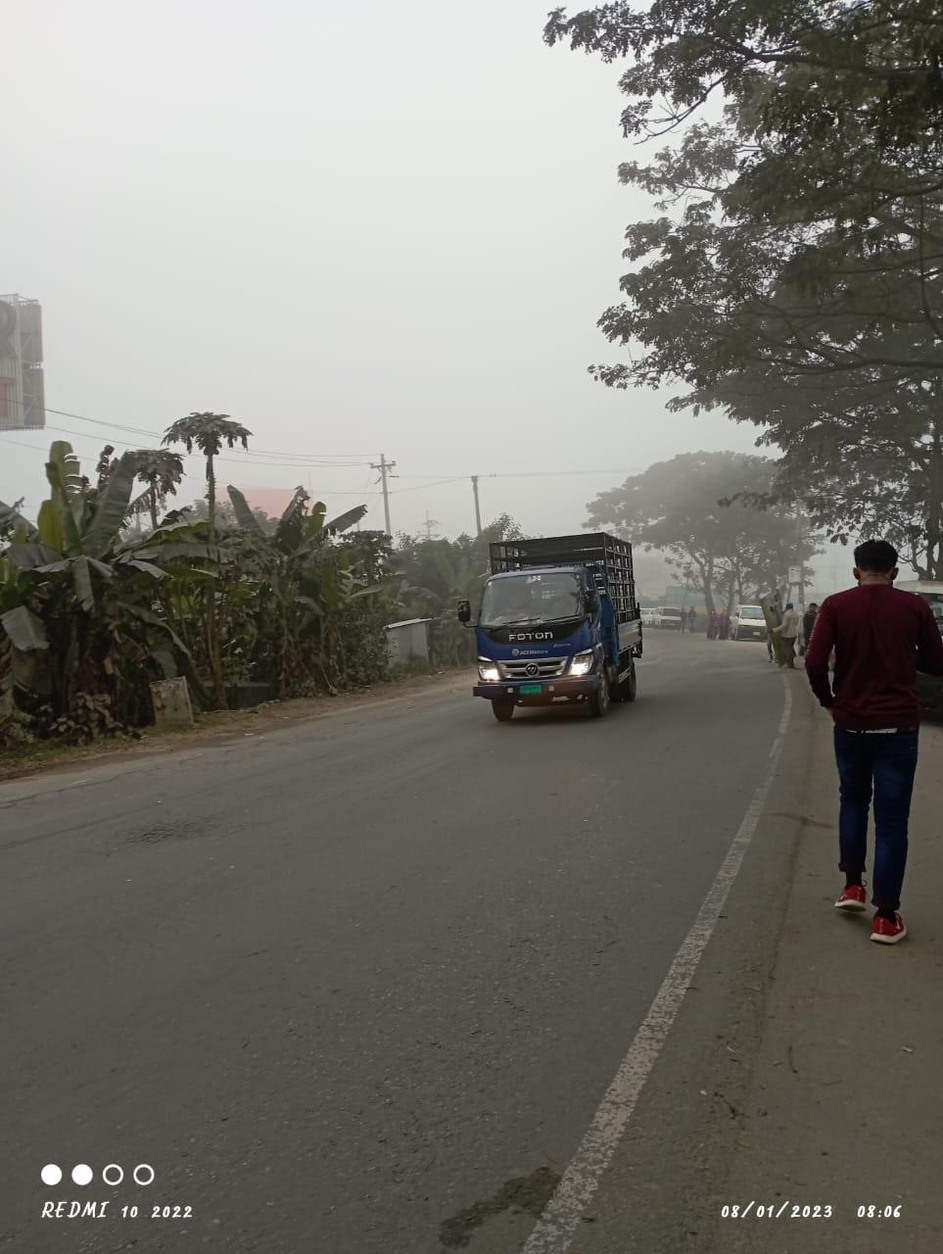Car: (726, 599, 779, 643)
Truck: (448, 532, 648, 717)
